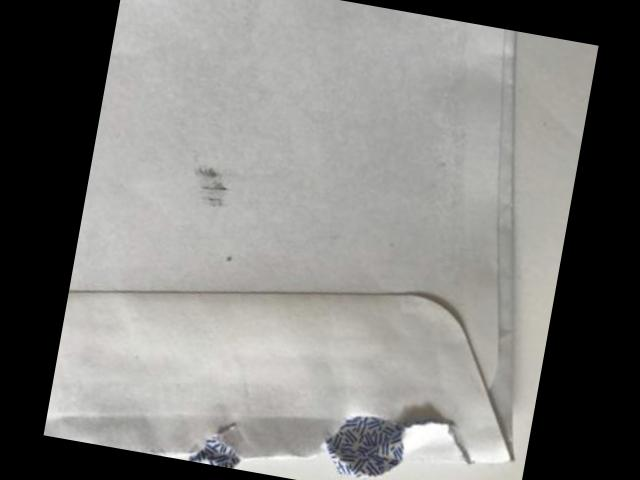cardboard paper: (42, 0, 512, 477)
